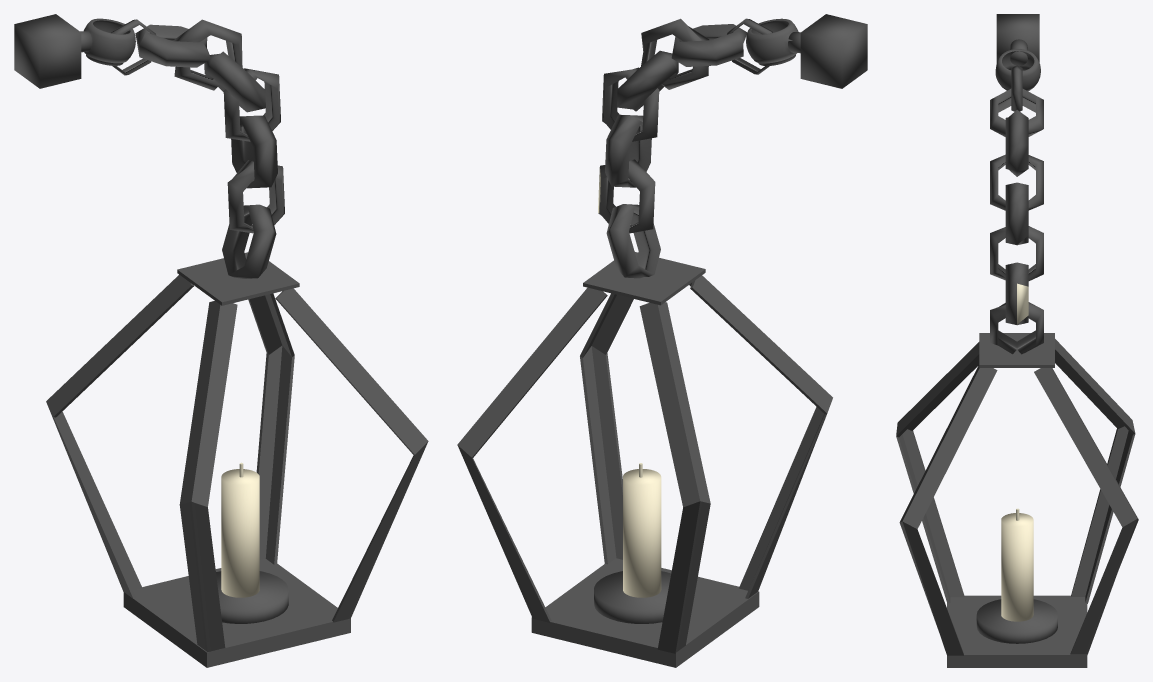
The model's file is lamp.fbx.
3 views of the same model, side by side, from view 1: azimuth 30°, elevation 25°; view 2: azimuth 150°, elevation 25°; view 3: azimuth 270°, elevation 25° (orthographic). The views are drawn at different scales.
Parts seen in each view (by area): view 1: Walec.001; view 2: Walec.001; view 3: Walec.001.
Part boxes in pixels (box(x1,y1,x2,y2)): Walec.001: box(14, 14, 428, 667); Walec.001: box(457, 14, 867, 667); Walec.001: box(896, 14, 1138, 667).
Size of the model in its own units: 78.64 by 143 by 58.58.
